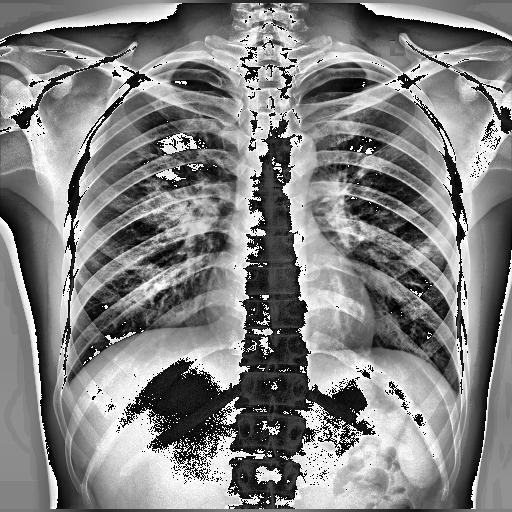13- Pulmonary fibrosis: (118, 146, 196, 230)
6- Infiltration: (118, 146, 196, 230), (138, 175, 207, 252), (370, 237, 434, 255)
7- Lung Opacity: (138, 175, 207, 252), (140, 174, 208, 238)
